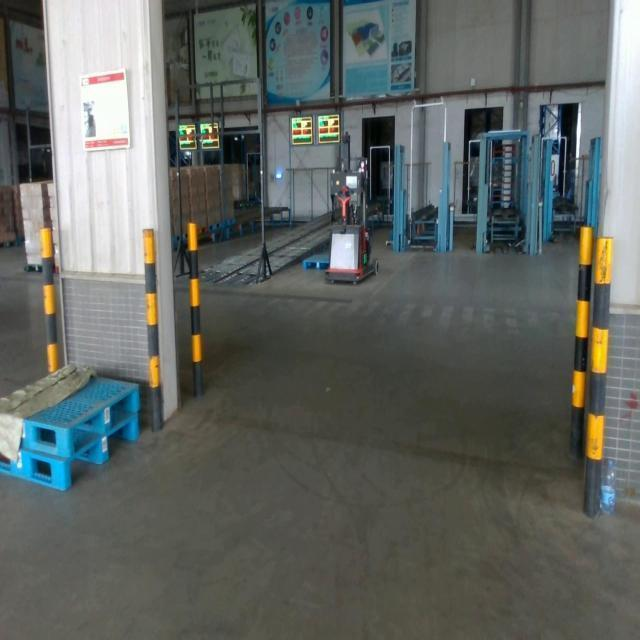forklift: (322, 130, 380, 288)
